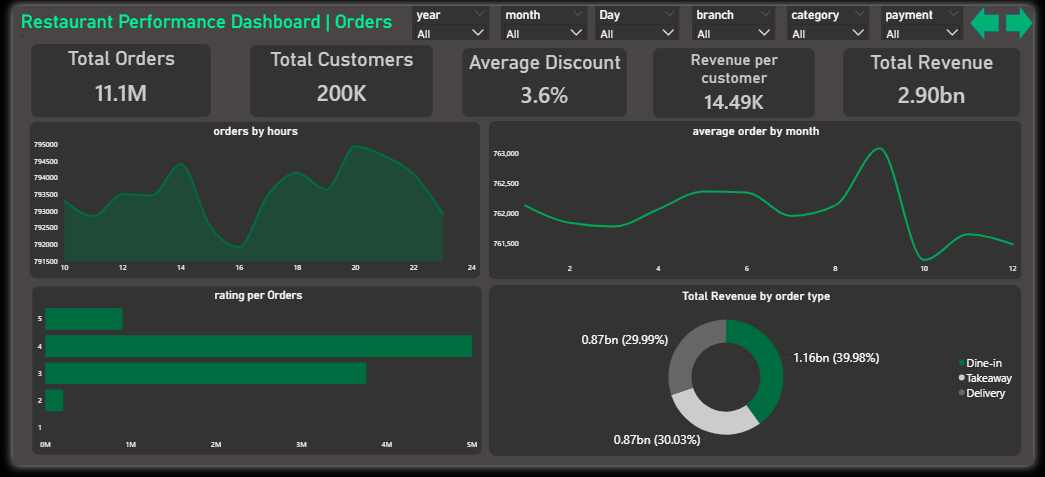

Layout of this report page (visuals, bound fields, positions):
{"tool":"powerbi","page":{"name":"Orders","canvas":[3000,1350],"ordinal":1},"visuals":[{"type":"areaChart","title":"orders by hours","fields":{"Category":["restaurant_table.hour"],"Y":["_Measures.Total Orders"]},"box":[47.1,338.2,1329.4,464.7],"z":0},{"type":"donutChart","title":"Total Revenue by order type","fields":{"Category":["restaurant_table.order_type"],"Y":["_Measures.total_revenue"]},"box":[1400,820.6,1564.7,502.9],"z":1000},{"type":"lineChart","fields":{"Category":["restaurant_table.month"],"Y":["_Measures.average order"]},"box":[1400,338.2,1564.7,464.7],"z":2000},{"type":"clusteredBarChart","title":"rating per Orders ","fields":{"Category":["restaurant_table.rating"],"Y":["_Measures.Total Orders"]},"box":[52.9,820.6,1329.4,502.9],"z":3000},{"type":"cardVisual","title":"Total Orders","fields":{"Data":["_Measures.Total Orders"]},"box":[52.9,111.8,529.4,214.7],"z":4000},{"type":"cardVisual","title":"Revenue per customer","fields":{"Data":["_Measures.Revenue per customer"]},"box":[1882.4,123.5,476.5,205.9],"z":5000},{"type":"cardVisual","title":"Average Discount","fields":{"Data":["_Measures.Average Discount"]},"box":[1320.6,123.5,485.3,202.9],"z":6000},{"type":"cardVisual","title":"Total Customers","fields":{"Data":["_Measures.Total Customers"]},"box":[697.1,114.7,538.2,211.8],"z":7000},{"type":"textbox","title":"Restaurant Performance Dashboard | Orders","box":[18.2,12.1,1124.2,100],"z":8000},{"type":"slicer","fields":{"Values":["restaurant_table.year"]},"box":[1172.7,0,227.3,100],"z":9000},{"type":"slicer","fields":{"Values":["restaurant_table.month"]},"box":[1436.4,0,254.5,100],"z":10000},{"type":"slicer","fields":{"Values":["restaurant_table.day_name"]},"box":[1712.1,0,248.5,100],"z":11000},{"type":"slicer","fields":{"Values":["restaurant_table.branch"]},"box":[1997,0,245.5,100],"z":12000},{"type":"slicer","fields":{"Values":["restaurant_table.payment_method"]},"box":[2551.5,0,242.4,100],"z":13000},{"type":"slicer","fields":{"Values":["restaurant_table.category"]},"box":[2275.8,0,242.4,100],"z":14000},{"type":"shape","box":[2814.7,0,85.3,100],"z":15000},{"type":"shape","box":[2920.6,0,79.4,100],"z":16000},{"type":"cardVisual","title":"Total Revenue","fields":{"Data":["_Measures.total_revenue"]},"box":[2441.2,123.5,520.6,202.9],"z":17000}]}

Visuals, with their boxes in screenshot pixels (x1, y1, x2, y2), scaled from the page's 3000x1350 canvas onto the 1045x477 screenshot:
"orders by hours" areaChart: [16,119,479,284]
"Total Revenue by order type" donutChart: [488,290,1033,468]
lineChart - restaurant_table.month x _Measures.average order: [488,119,1033,284]
"rating per Orders " clusteredBarChart: [18,290,482,468]
"Total Orders" cardVisual: [18,40,203,115]
"Revenue per customer" cardVisual: [656,44,822,116]
"Average Discount" cardVisual: [460,44,629,115]
"Total Customers" cardVisual: [243,41,430,115]
"Restaurant Performance Dashboard | Orders" textbox: [6,4,398,40]
slicer - restaurant_table.year: [408,0,488,35]
slicer - restaurant_table.month: [500,0,589,35]
slicer - restaurant_table.day_name: [596,0,683,35]
slicer - restaurant_table.branch: [696,0,781,35]
slicer - restaurant_table.payment_method: [889,0,973,35]
slicer - restaurant_table.category: [793,0,877,35]
shape: [980,0,1010,35]
shape: [1017,0,1044,35]
"Total Revenue" cardVisual: [850,44,1032,115]
